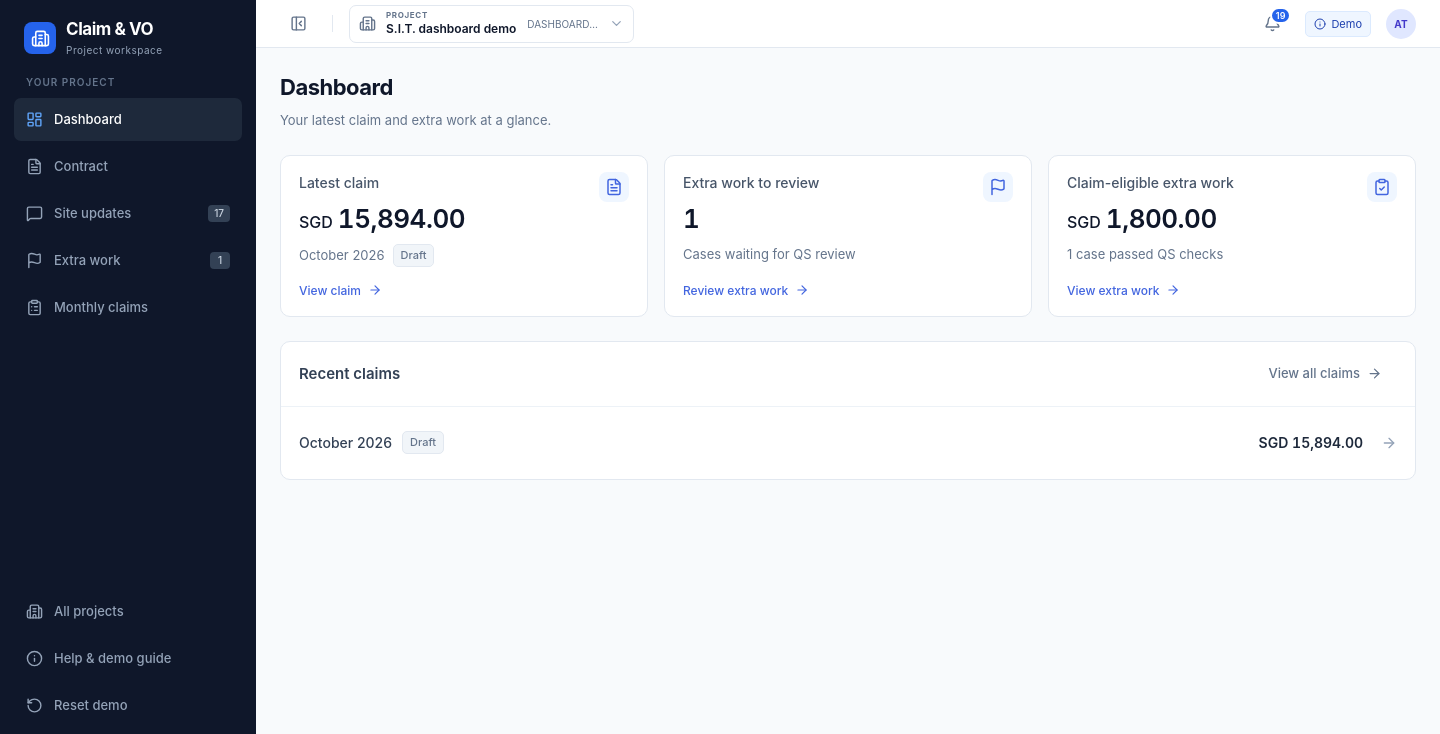
Test case: selected-project dashboard record links › opens all claims and the extra-work module from the summary cards without altering dashboard records
What coordinates should you click on to do the following:
click the button with aria-label "View all monthly claims"
I would click on:
 (1325, 374)
Its box is [1254, 354, 1397, 394].
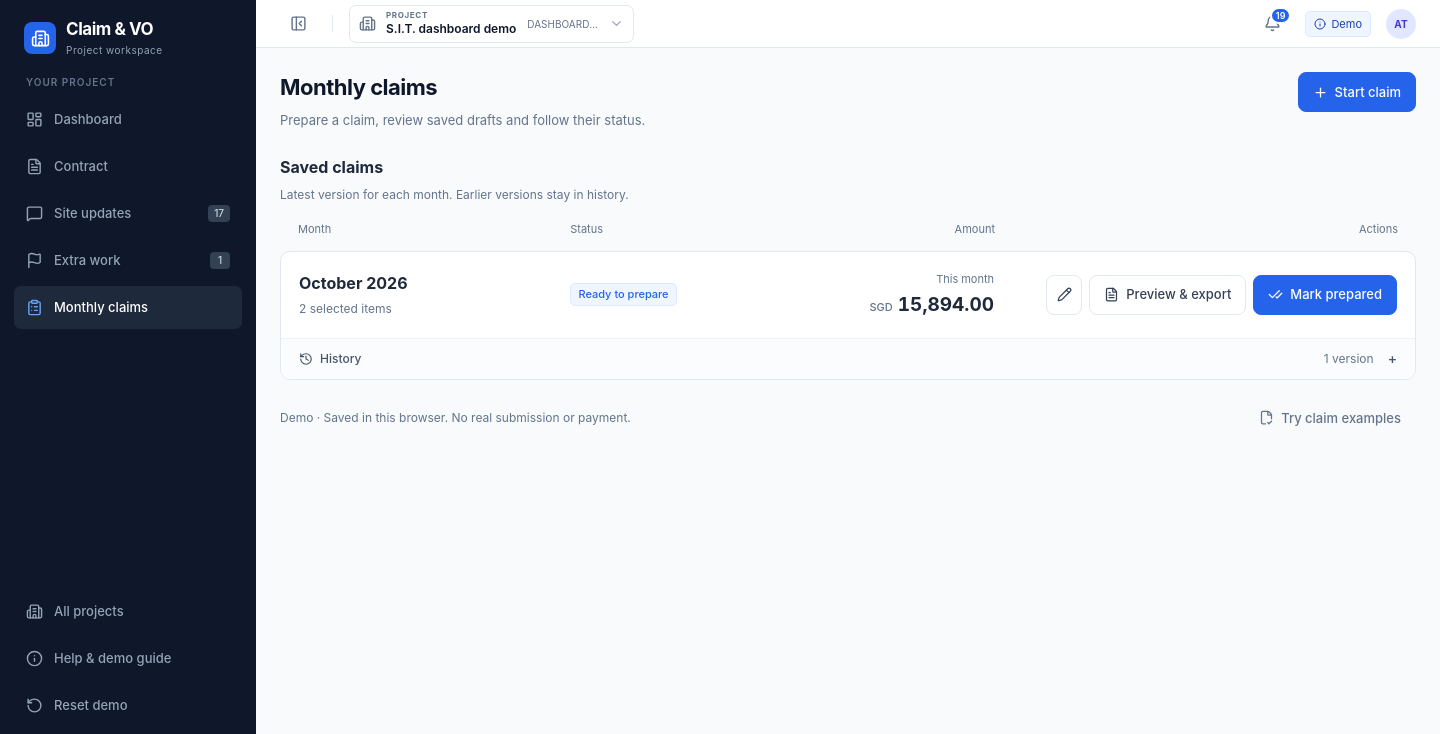
Now the heading "Monthly claims" is shown, box [280, 74, 437, 100]
What coordinates should you click on to do the following:
click the button "Dashboard"
I would click on:
 (128, 120)
Its box is [14, 98, 242, 141].
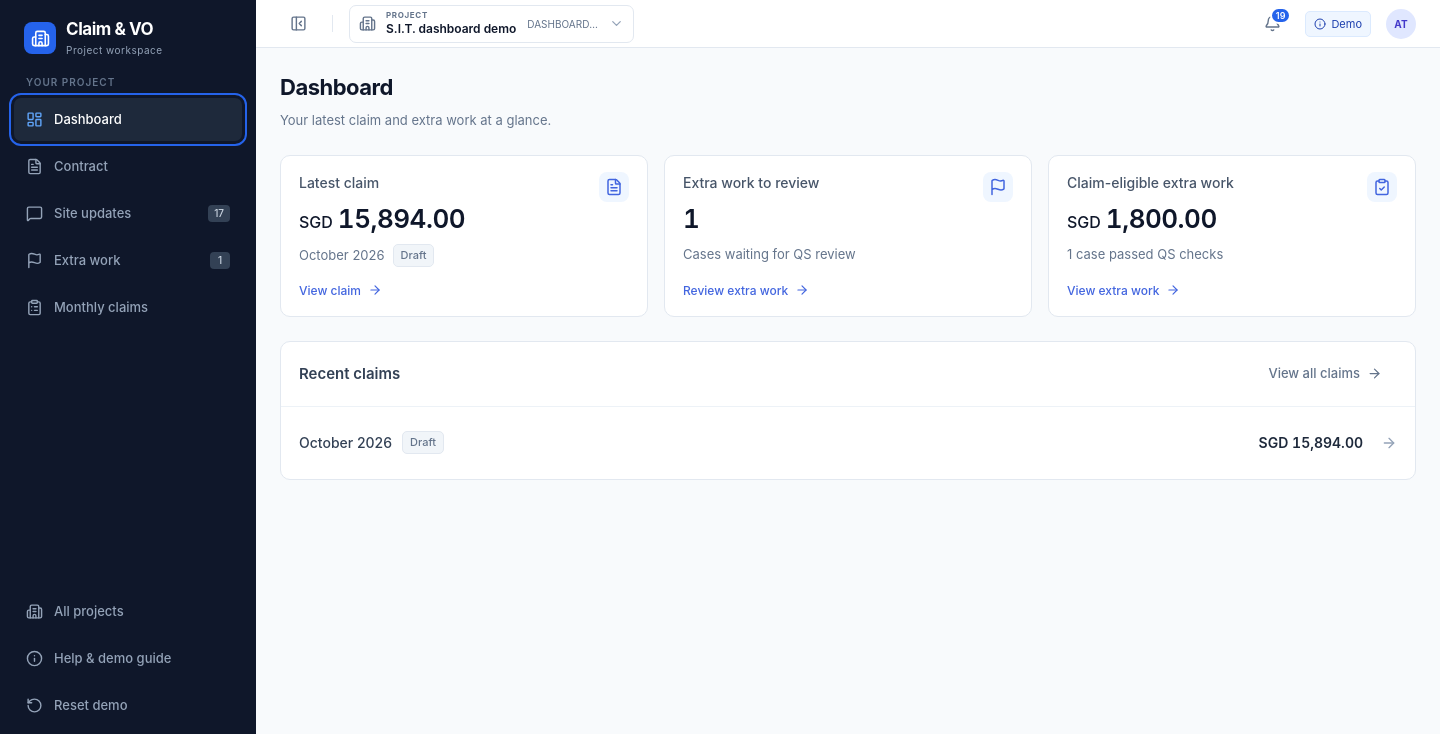
Now the heading "Dashboard" is shown, box [280, 74, 393, 100]
What coordinates should you click on to do the following:
click the button "Review extra work"
I would click on:
 (751, 182)
Its box is [665, 156, 1031, 316].
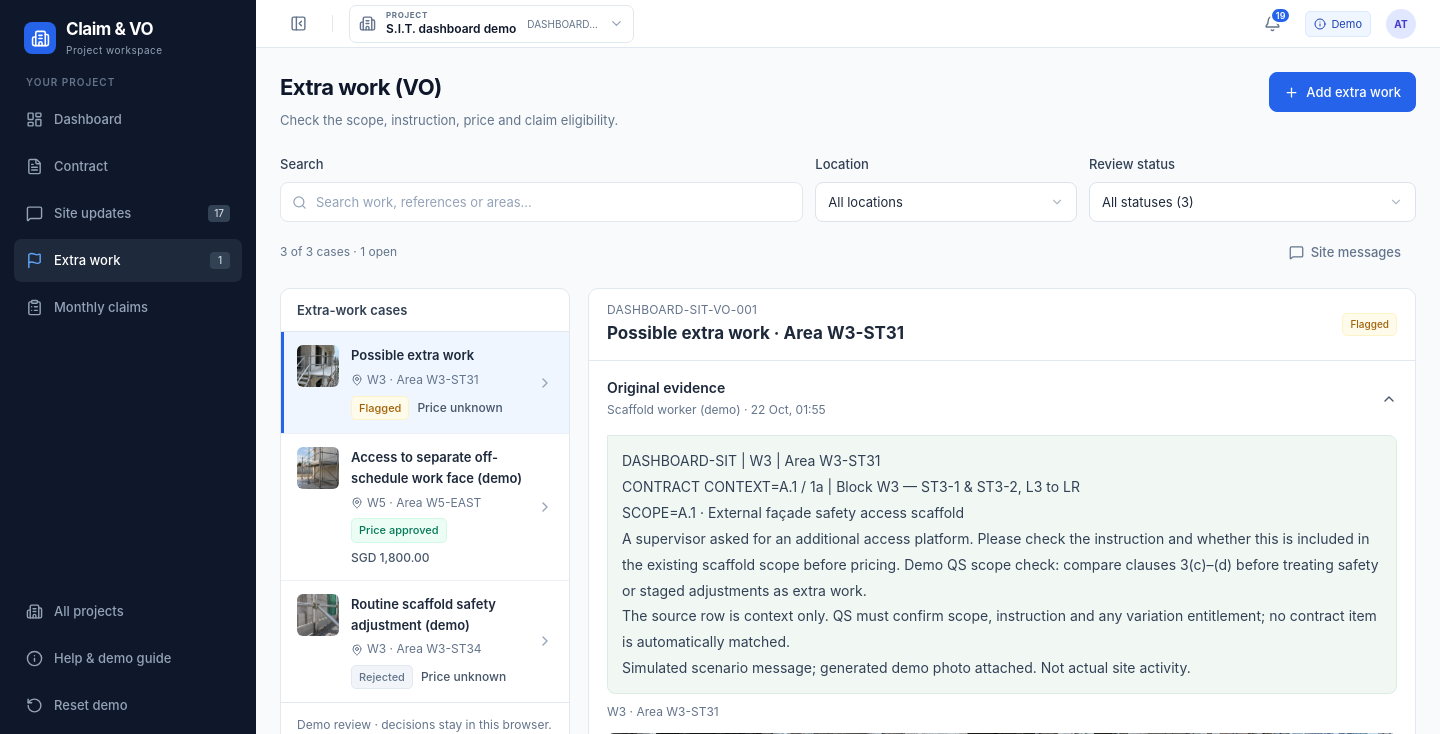
Now the heading "Extra work (VO)" is shown, box [280, 74, 442, 100]
What coordinates should you click on to do the following:
click the button "Dashboard"
I would click on:
 (128, 120)
Its box is [14, 98, 242, 141].
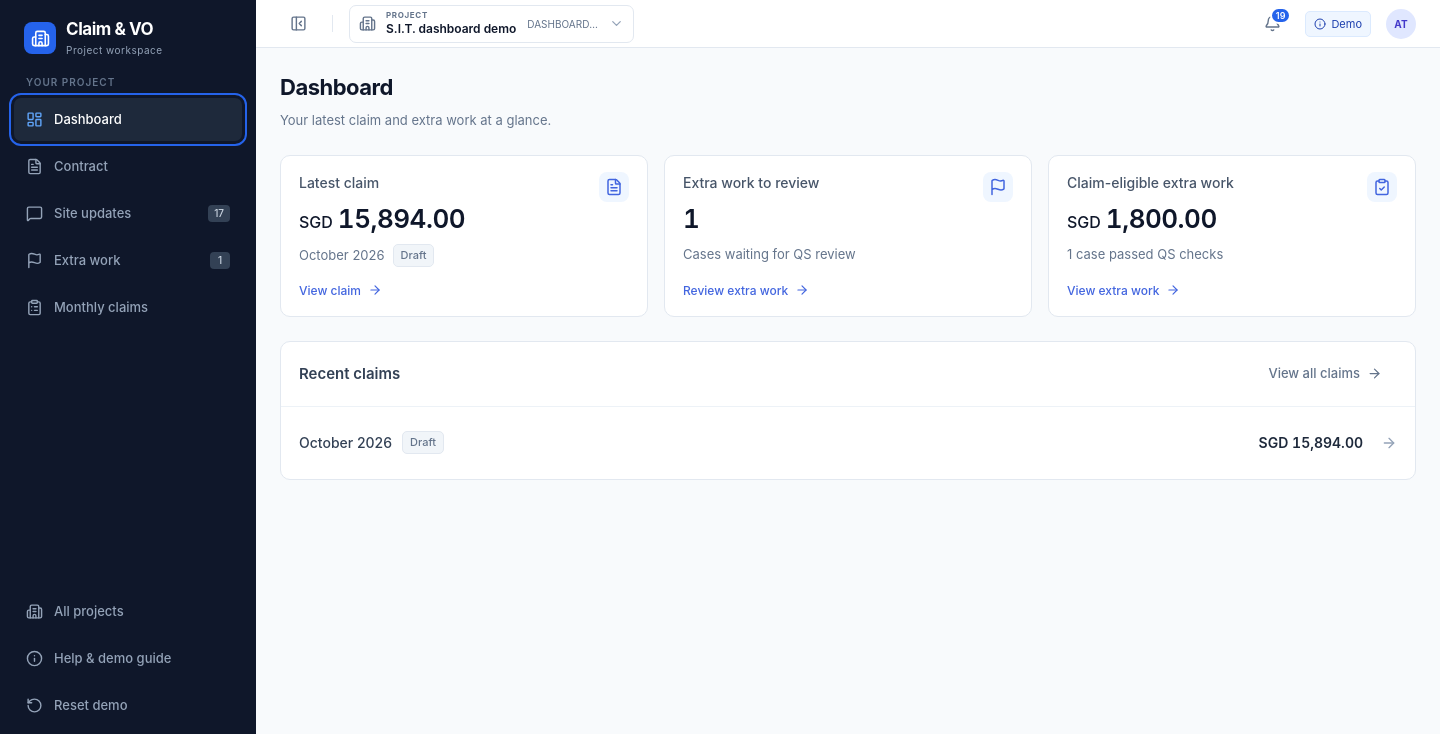
Now the heading "Dashboard" is shown, box [280, 74, 393, 100]
What coordinates should you click on to do the following:
click the button with aria-label "View claim-eligible extra work"
I would click on:
 (1150, 182)
Its box is [1049, 156, 1415, 316].
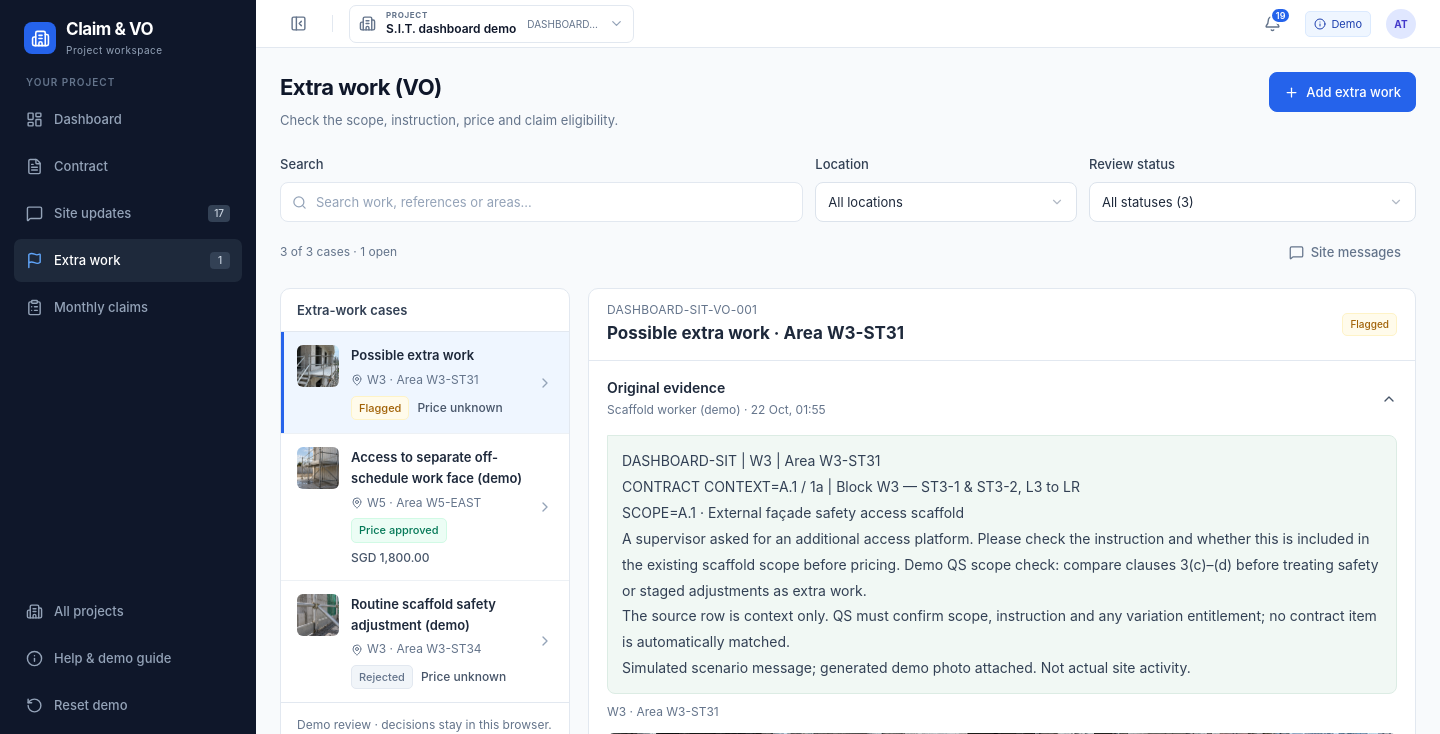
Now the heading "Extra work (VO)" is shown, box [280, 74, 442, 100]
